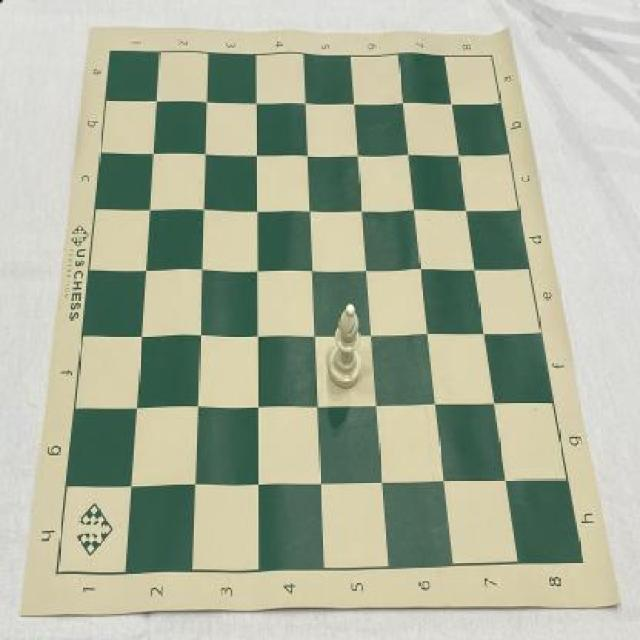black-rook: (328, 303, 362, 390)
